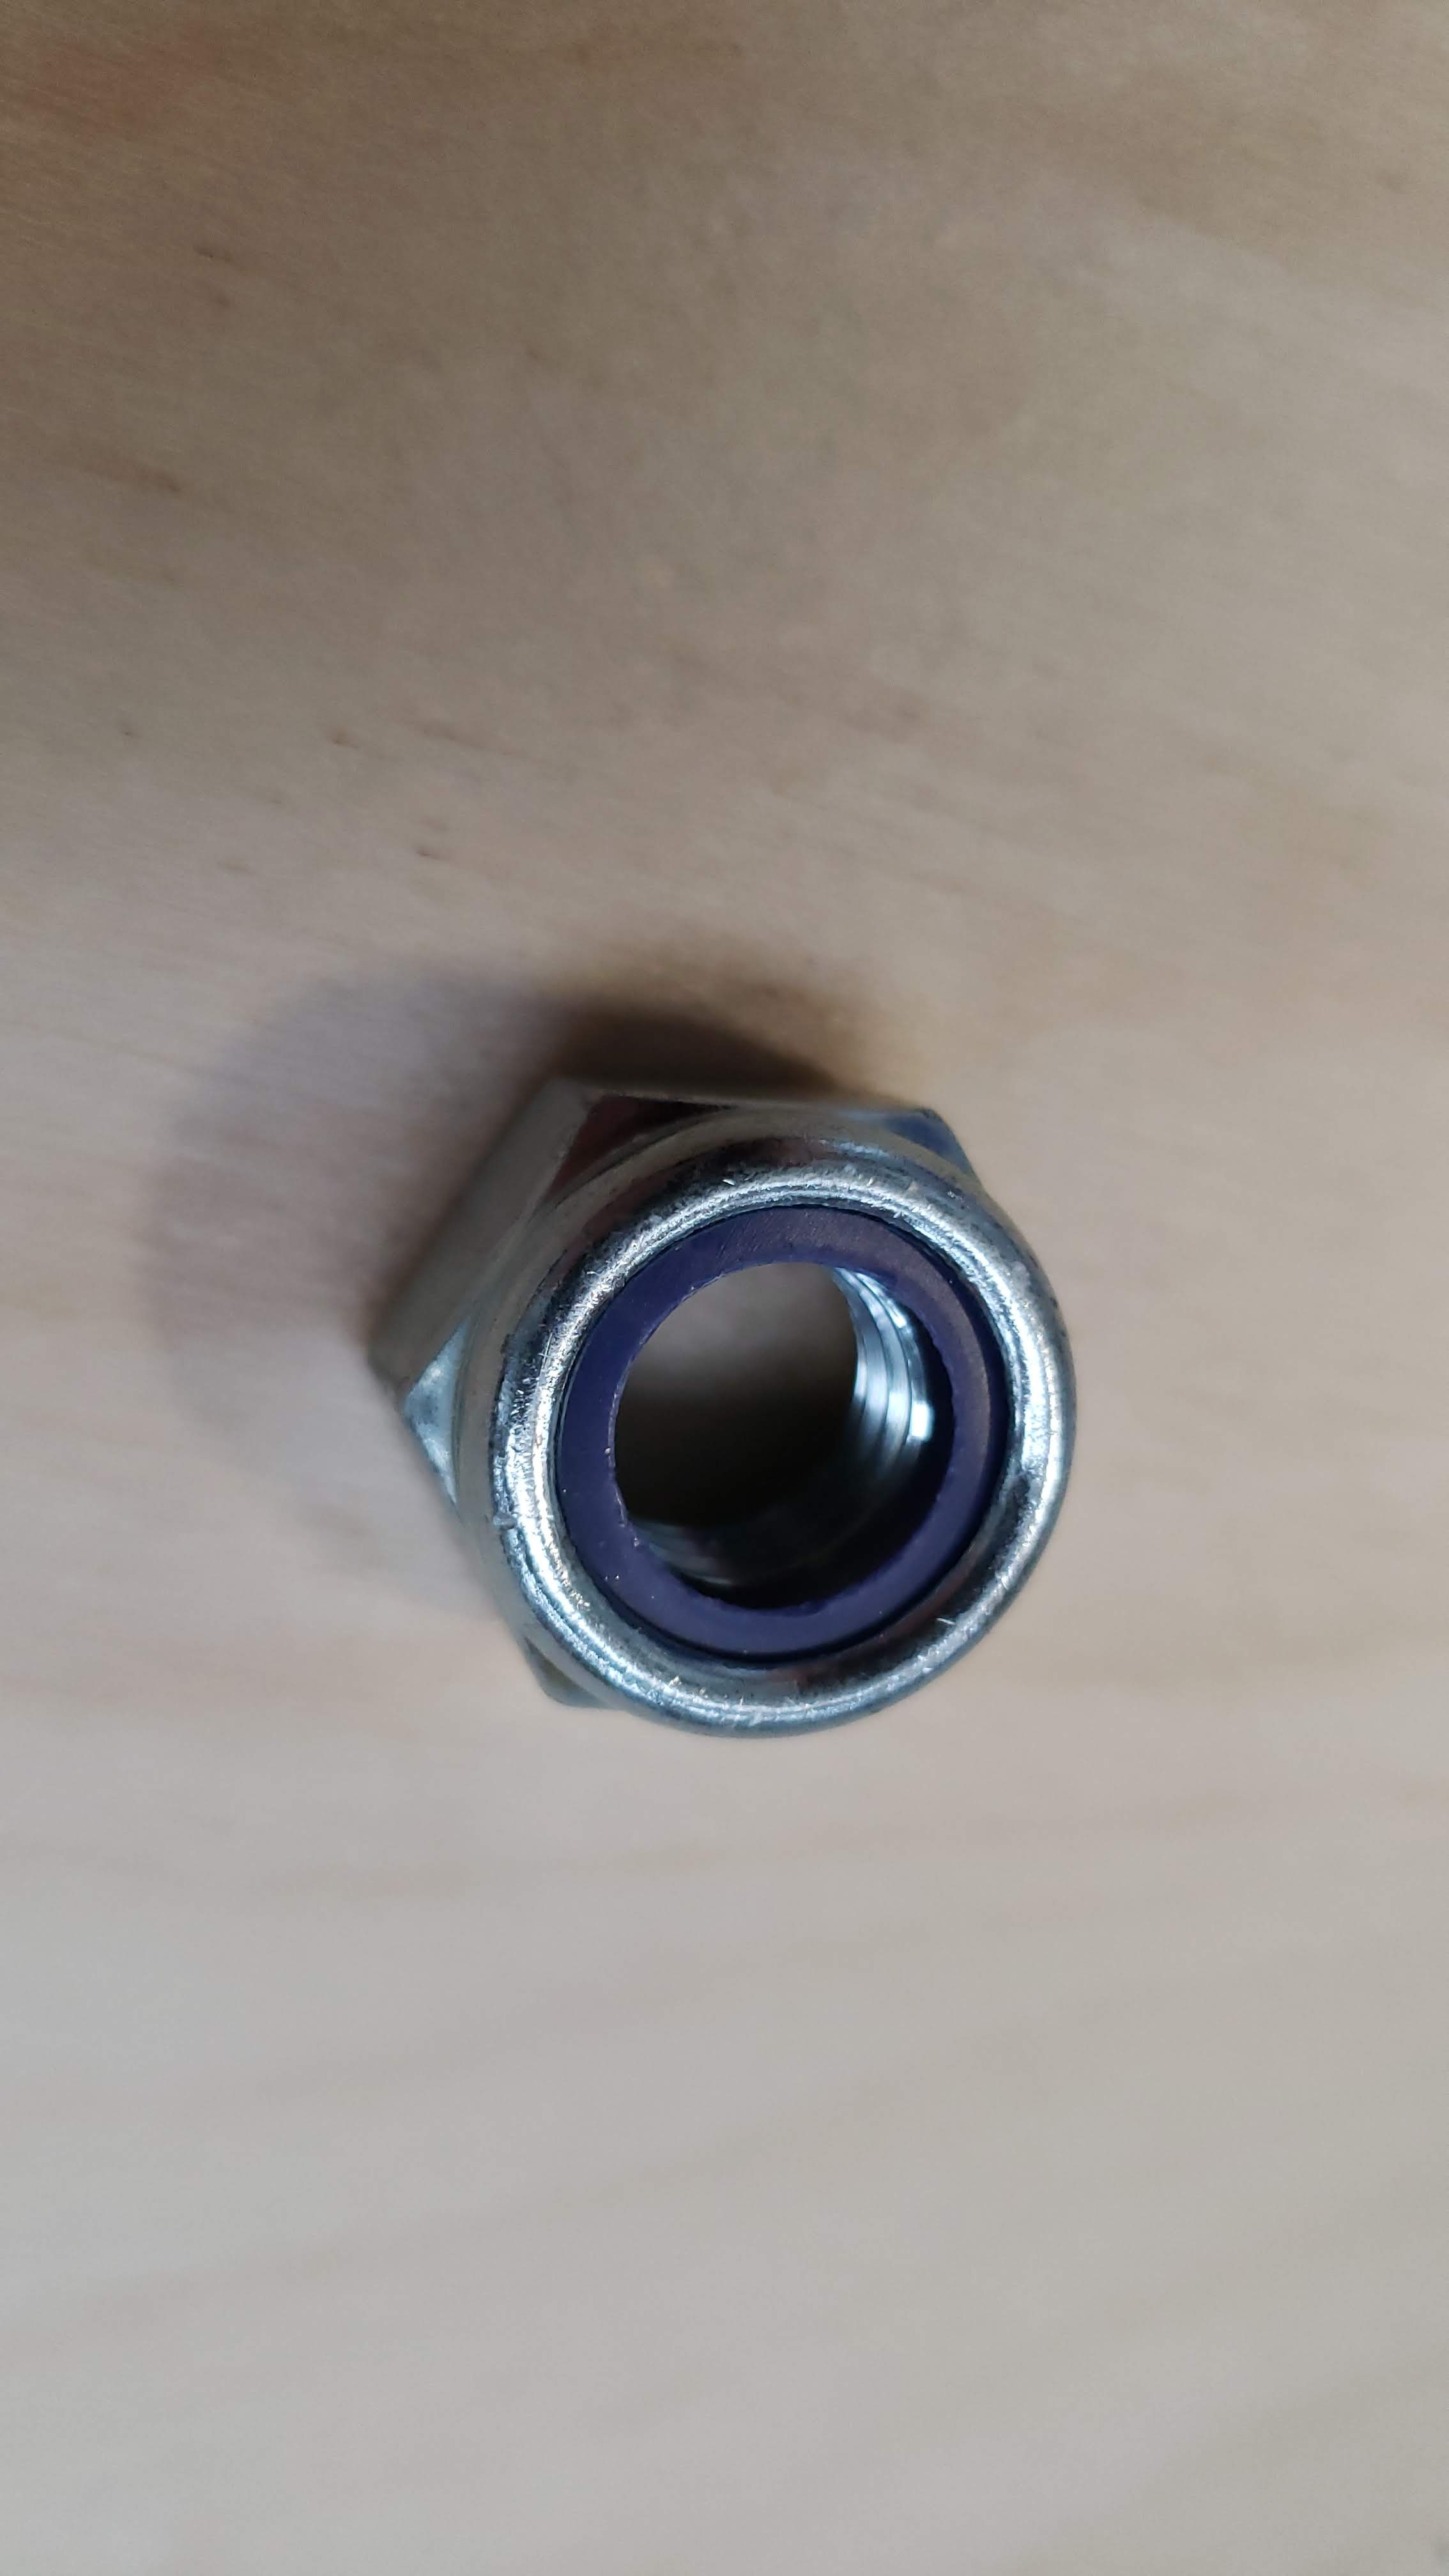Nut: (267, 959, 1200, 1909)
